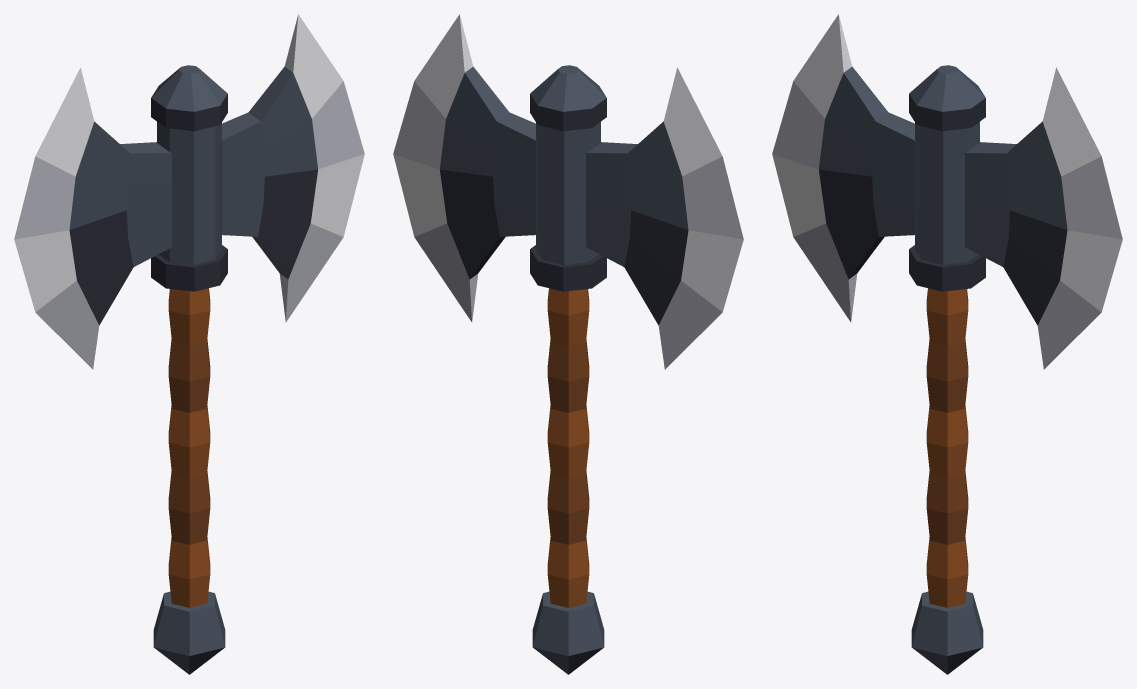
File: axe.glb
The picture shows the model from 3 angles, left to right: view 1: azimuth 30°, elevation 25°; view 2: azimuth 150°, elevation 25°; view 3: azimuth 330°, elevation 25°; orthographic projection.
Visible parts, largest first — view 1: axe; view 2: axe; view 3: axe.
Boxes of the visible parts, x1=… form: axe: x1=14, y1=14, x2=364, y2=674; axe: x1=393, y1=14, x2=743, y2=674; axe: x1=772, y1=14, x2=1122, y2=674.
Size of the model in its own units: 0.6063 by 1.05 by 0.1074.
